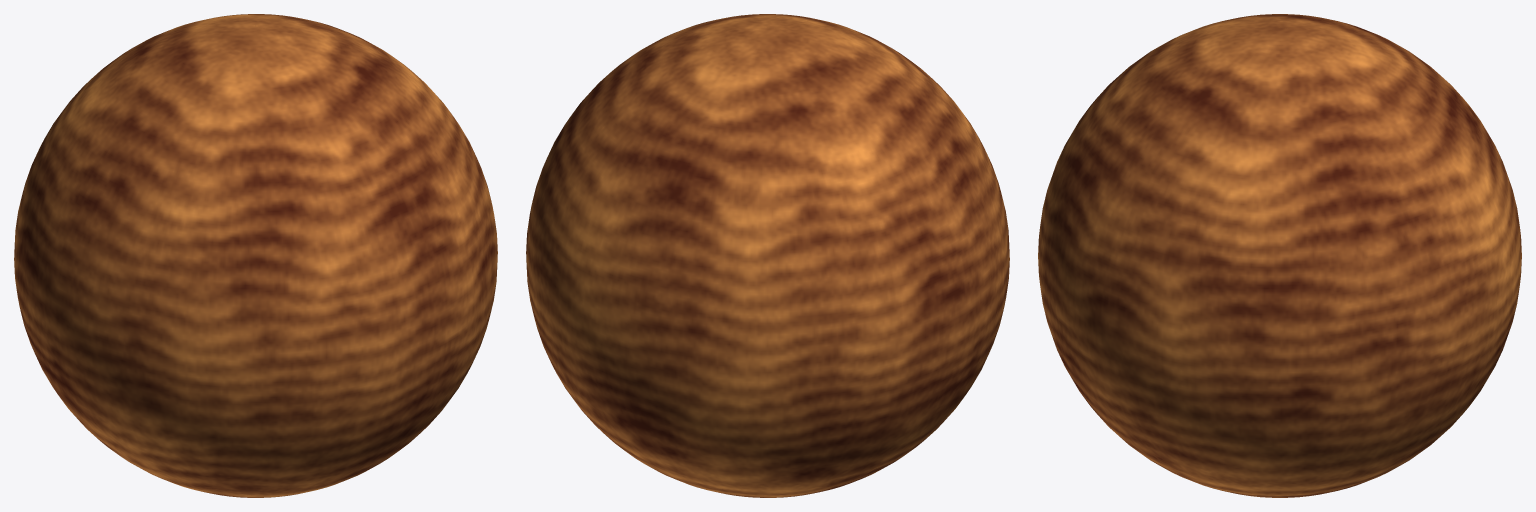
File: planeta-desertico.glb
3 views of the same model, side by side, from view 1: azimuth 30°, elevation 25°; view 2: azimuth 150°, elevation 25°; view 3: azimuth 270°, elevation 25° (orthographic).
Visible parts, largest first — view 1: Planeta · desertico; view 2: Planeta · desertico; view 3: Planeta · desertico.
Boxes of the visible parts, <box> form: Planeta · desertico: <box>14,14,497,497</box>; Planeta · desertico: <box>526,14,1009,497</box>; Planeta · desertico: <box>1038,14,1521,497</box>.
Size of the model in its own units: 2 by 2 by 2.
1 material, 1 textured.
